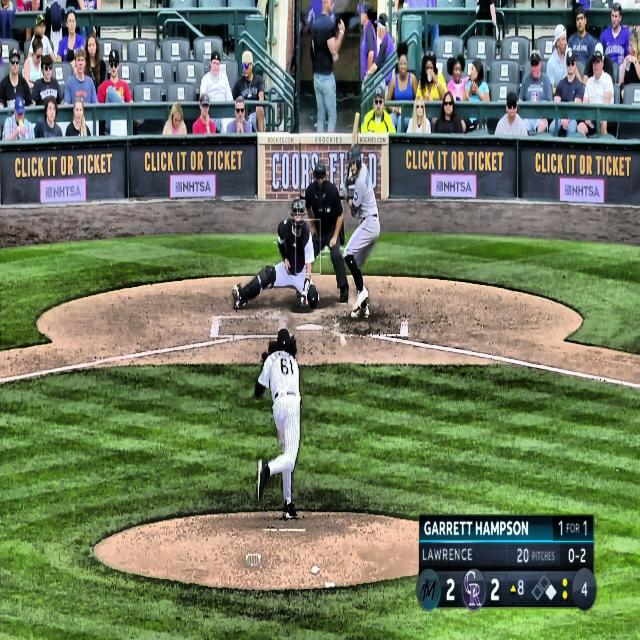baseball: (339, 331, 347, 346)
